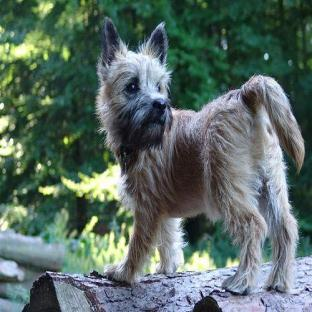Animal: (96, 17, 304, 294)
